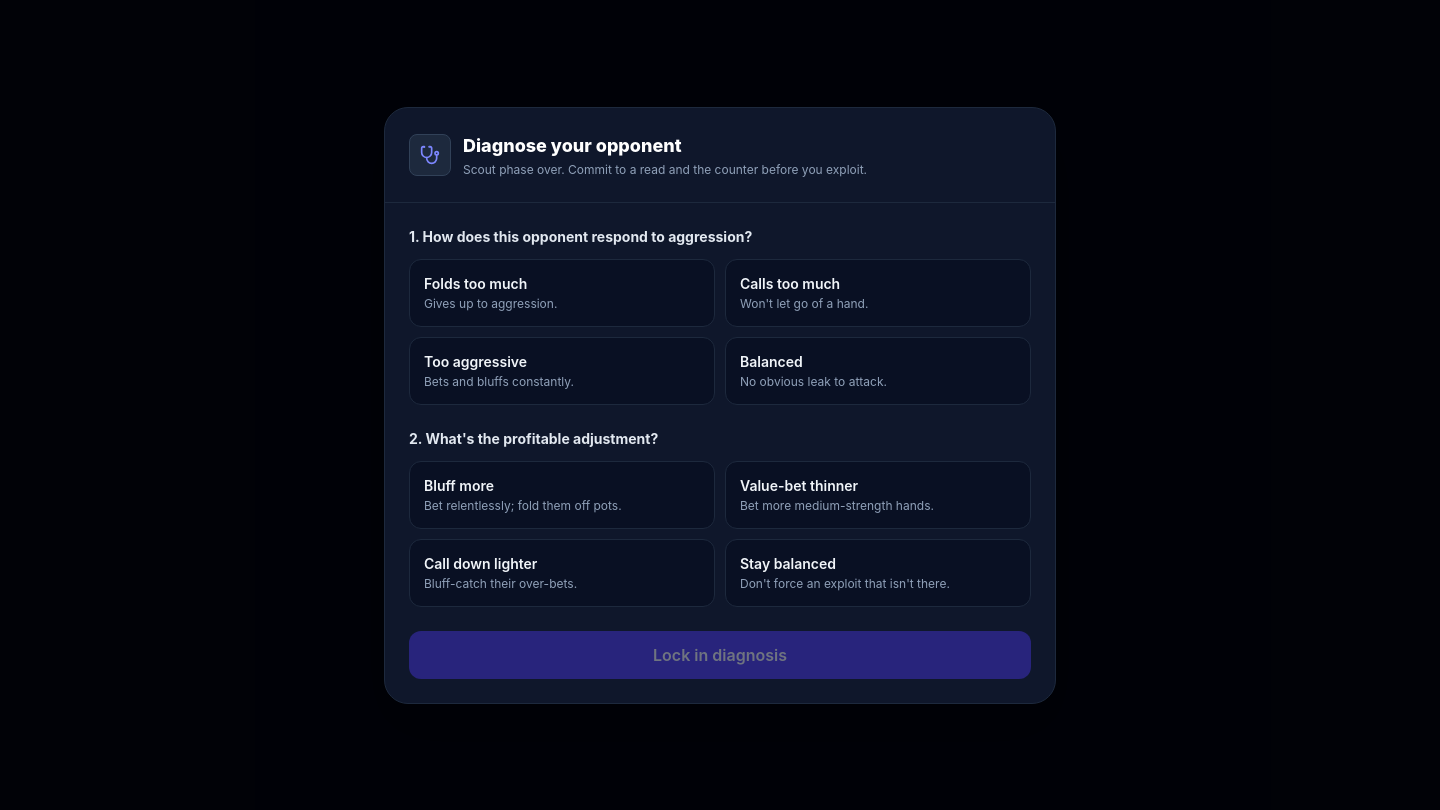
Test: DiagnosisModal › keeps submit disabled until both answers are chosen
This screenshot has width=1440, height=810.
Expected: the button "Lock in diagnosis" is disabled, 409,630 -> 1031,678
Click the text "Calls too much" at (790,283), box 740,274 -> 840,292
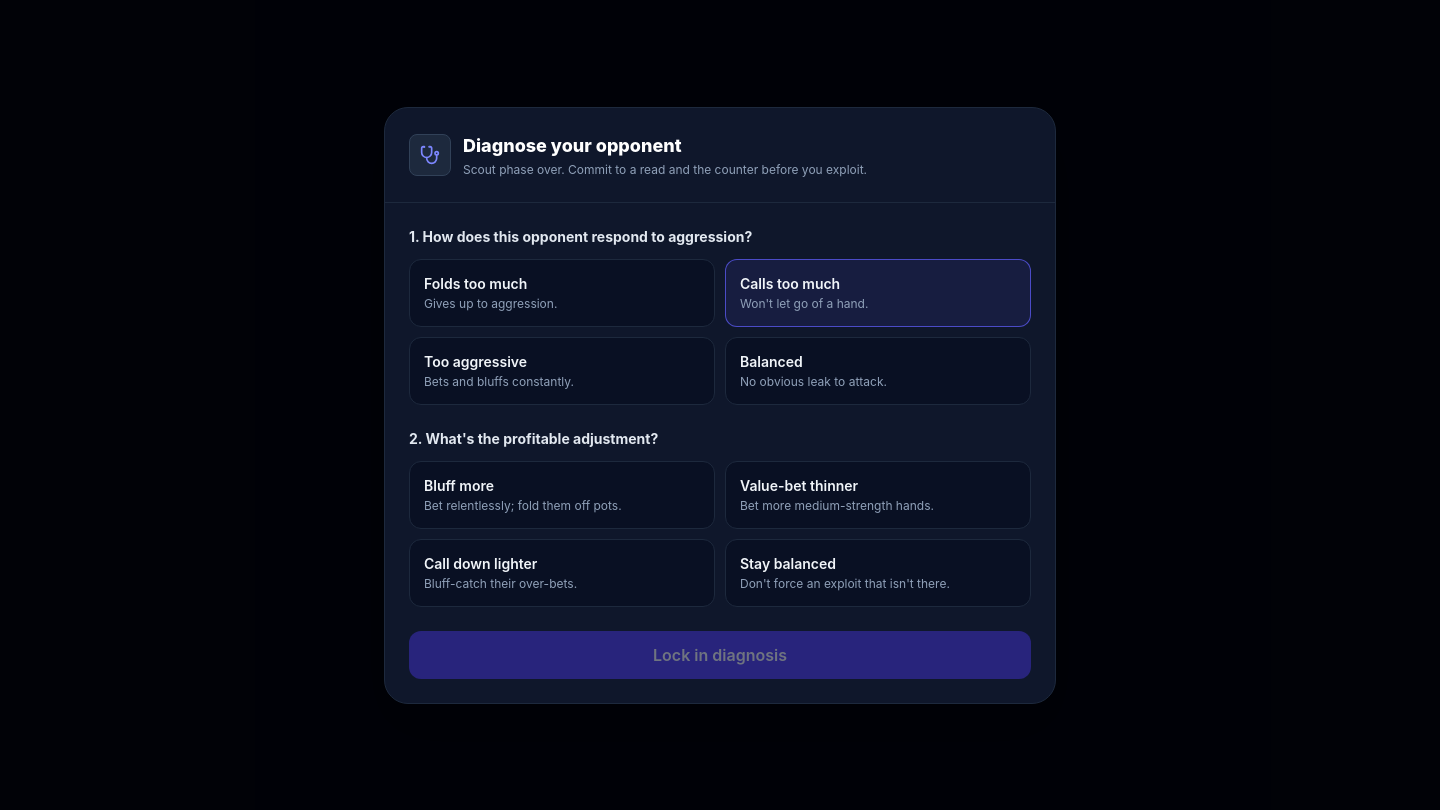
Expected: the button "Lock in diagnosis" is disabled, 409,630 -> 1031,678
Click the text "Call down lighter" at (481,563), box 424,554 -> 537,572
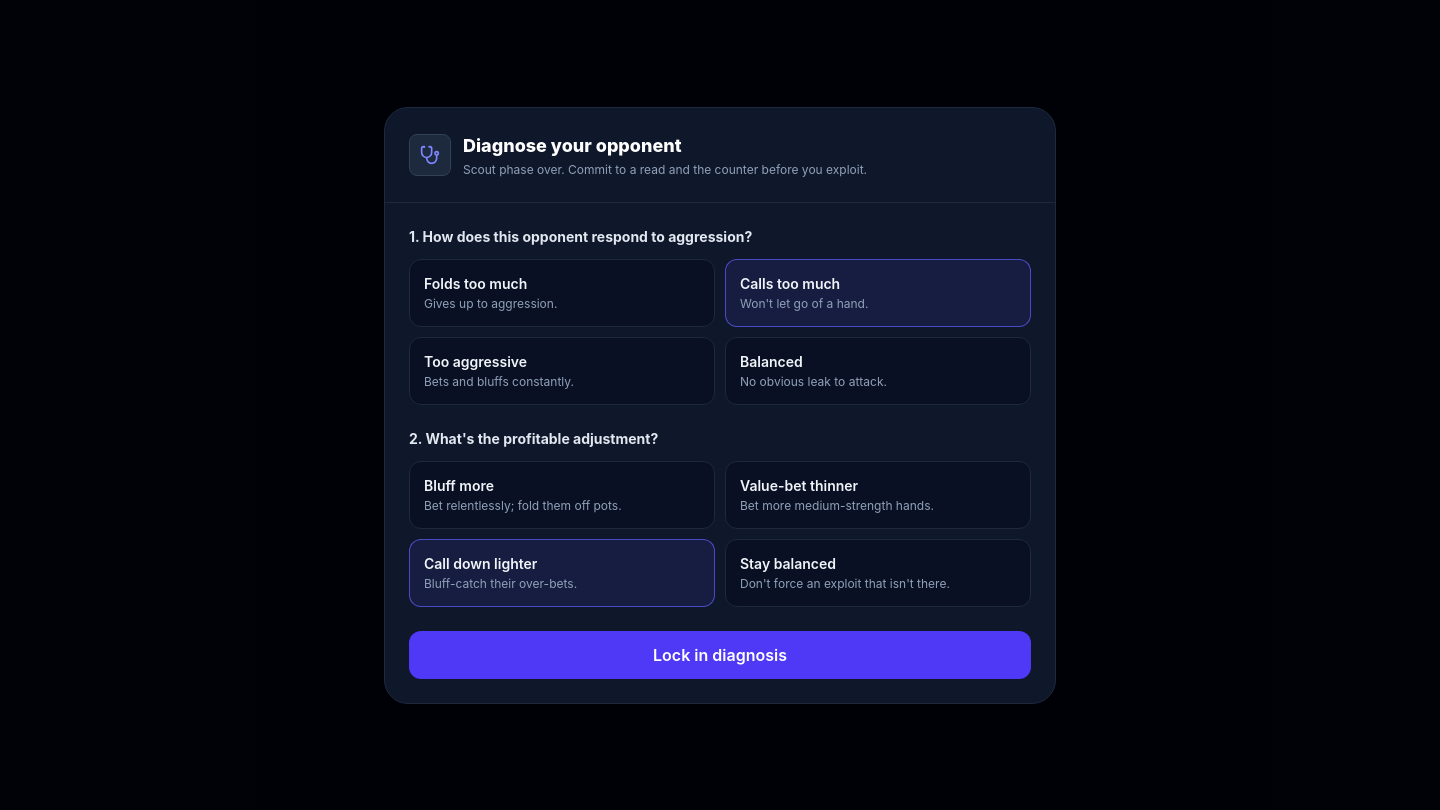
Result: the button "Lock in diagnosis" is enabled at 409,630 -> 1031,678
